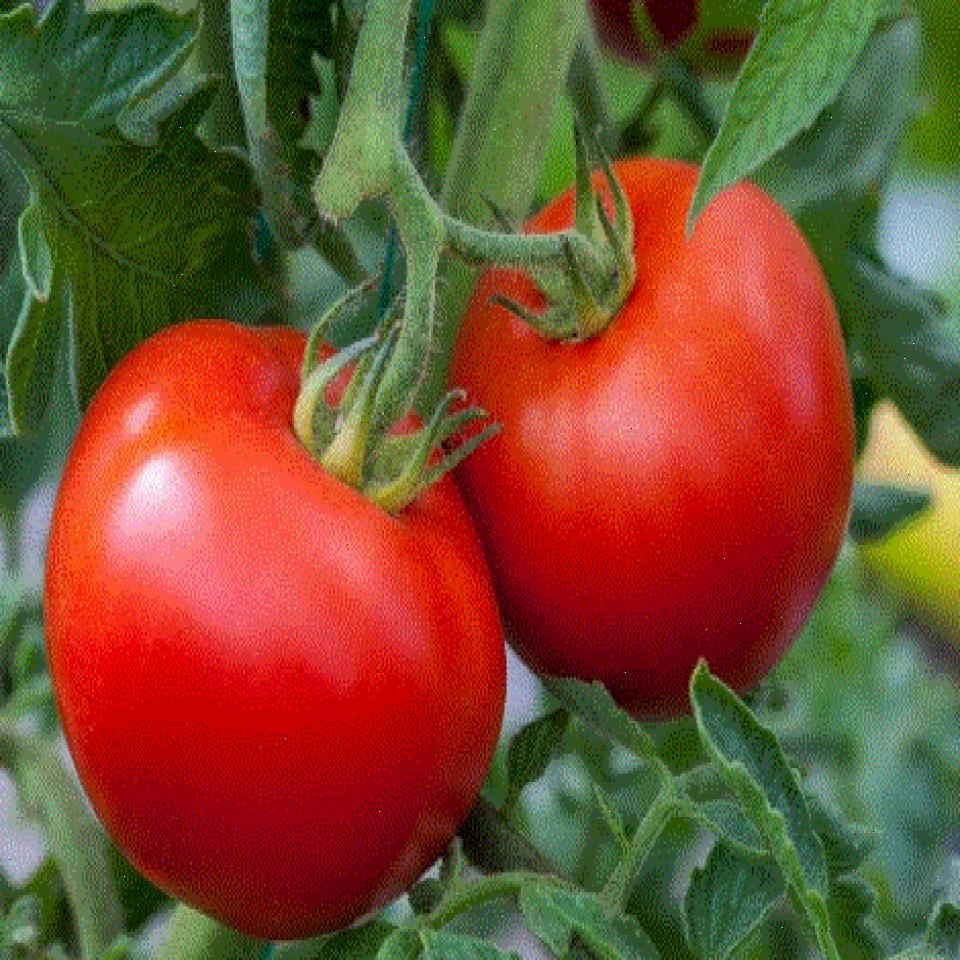Healthy: (66, 320, 505, 908), (510, 184, 836, 650)
